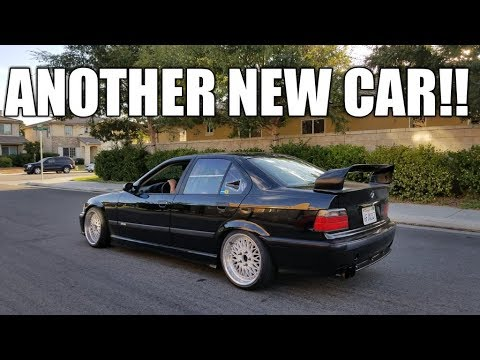car: (75, 145, 403, 291)
